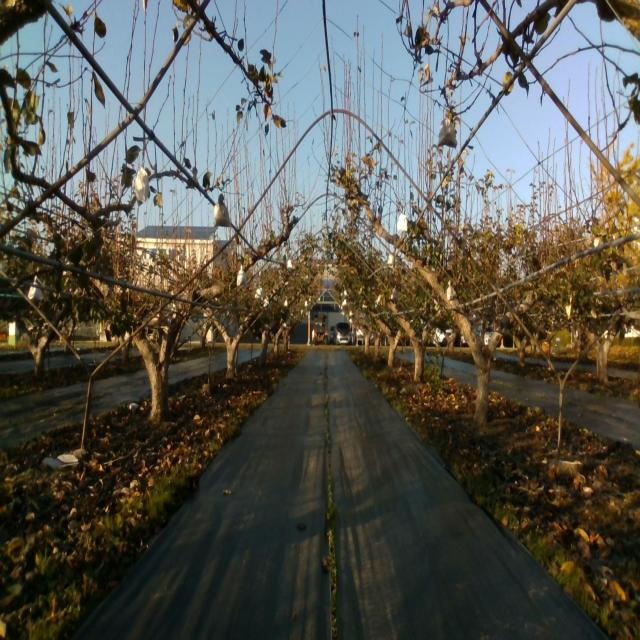pearbags: (437, 115, 457, 148), (213, 194, 231, 228), (135, 166, 149, 204), (237, 265, 247, 286), (397, 213, 408, 232)
